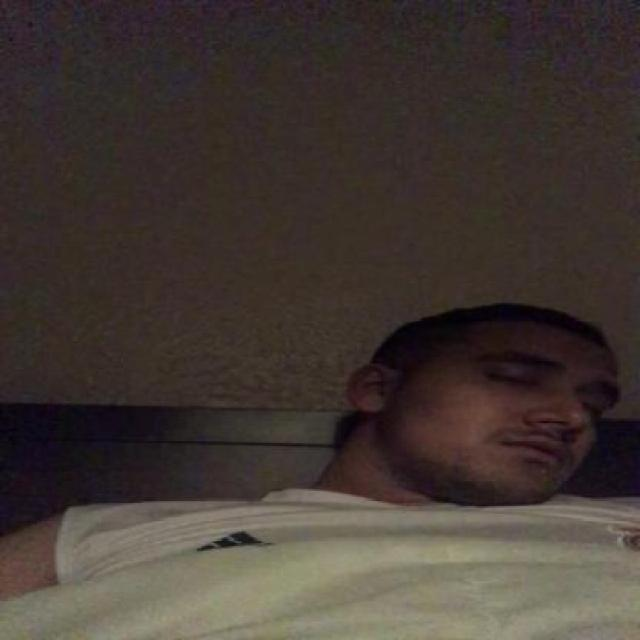drowsy: (487, 367, 538, 391), (584, 394, 608, 418)
